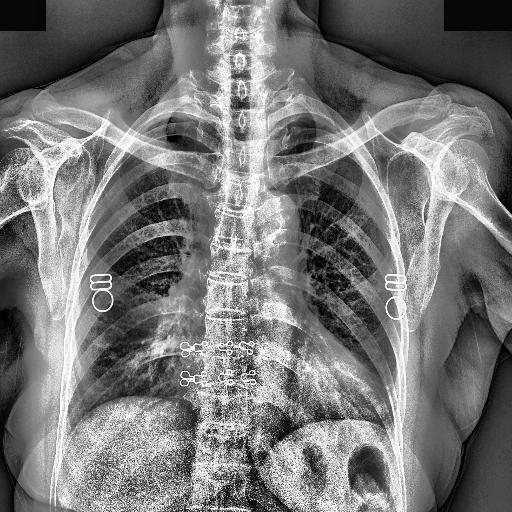0- Aortic enlargement: (250, 190, 298, 251), (256, 192, 299, 252)
3- Cardiomegaly: (178, 332, 390, 426), (174, 336, 382, 426), (182, 358, 390, 426)
6- Infiltration: (130, 308, 188, 392)
